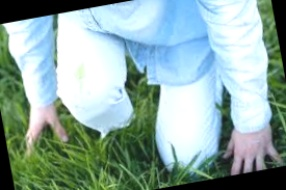earth: (70, 61, 90, 96)
